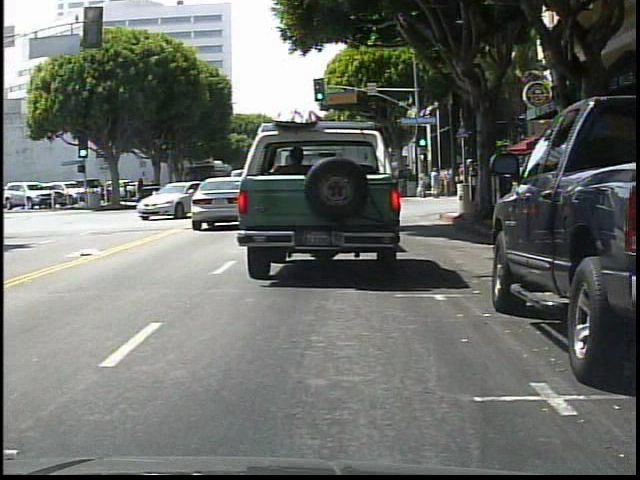person: (430, 165, 442, 197), (443, 165, 453, 197), (418, 169, 428, 197)
